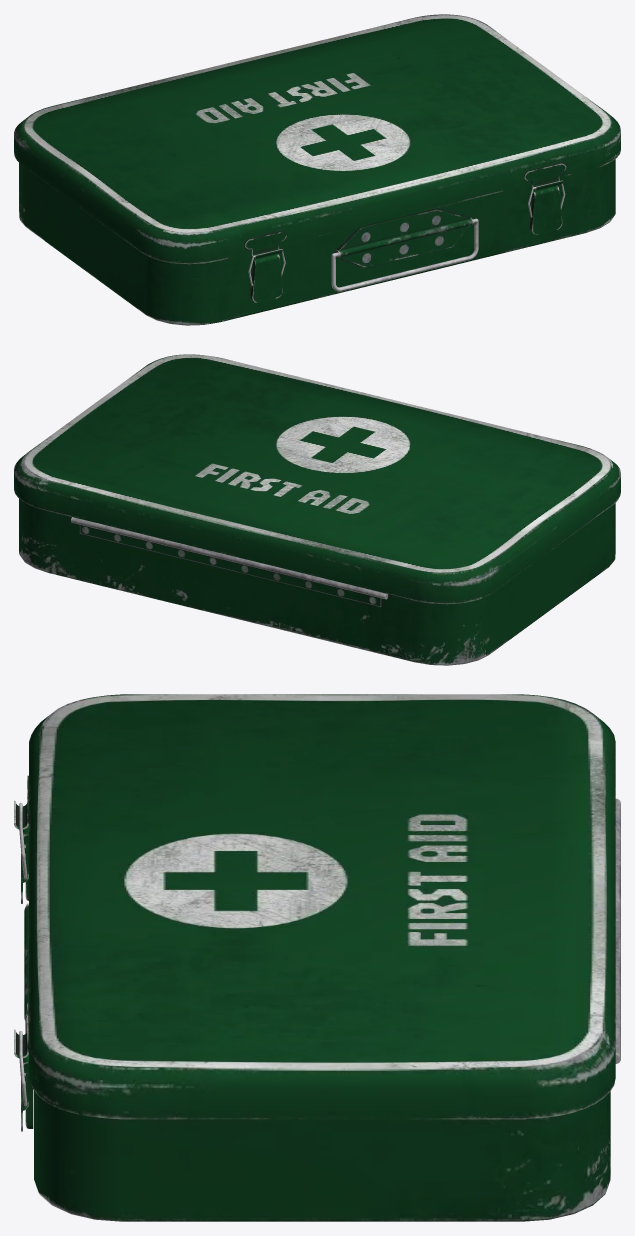
The model's file is medical_box.glb.
3 renders of one model, top to bottom at view 1: azimuth 30°, elevation 25°; view 2: azimuth 150°, elevation 25°; view 3: azimuth 270°, elevation 25°, orthographic. The views are drawn at different scales.
Visible parts, largest first — view 1: medical_box_lid, medical_box, medical_box_latch, medical_box_handle; view 2: medical_box_lid, medical_box; view 3: medical_box_lid, medical_box.
Part boxes in pixels (<box>): medical_box_lid: <box>14,14,620,264</box>; medical_box: <box>19,159,615,325</box>; medical_box_latch: <box>251,185,562,302</box>; medical_box_handle: <box>331,218,478,291</box>; medical_box_lid: <box>14,354,620,603</box>; medical_box: <box>19,499,615,665</box>; medical_box_lid: <box>14,694,615,1119</box>; medical_box: <box>24,798,620,1221</box>.
Bounding box in the file's own units: 0.5255 × 0.0975 × 0.3502.
Materials: 1 (1 with a texture image).
